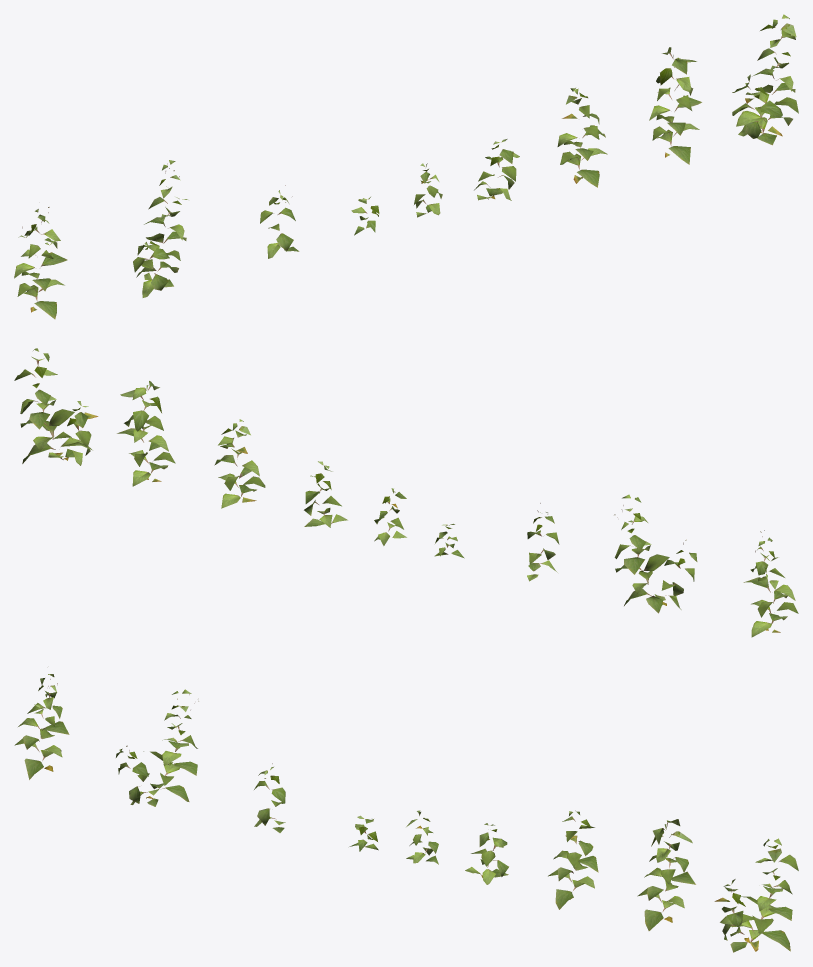
File: shrub_01.glb
3 renders of one model, top to bottom at view 1: azimuth 30°, elevation 25°; view 2: azimuth 150°, elevation 25°; view 3: azimuth 330°, elevation 25°, orthographic. The views are drawn at different scales.
Visible parts, largest first — view 1: shrub_01_a; view 2: shrub_01_a; view 3: shrub_01_a.
Part boxes in pixels (x1,y1,x2,y2): shrub_01_a: [14, 14, 798, 319]; shrub_01_a: [14, 348, 798, 637]; shrub_01_a: [14, 674, 798, 952].
Size of the model in its own units: 2.59 by 0.3678 by 0.2049.
1 material, 1 textured.
